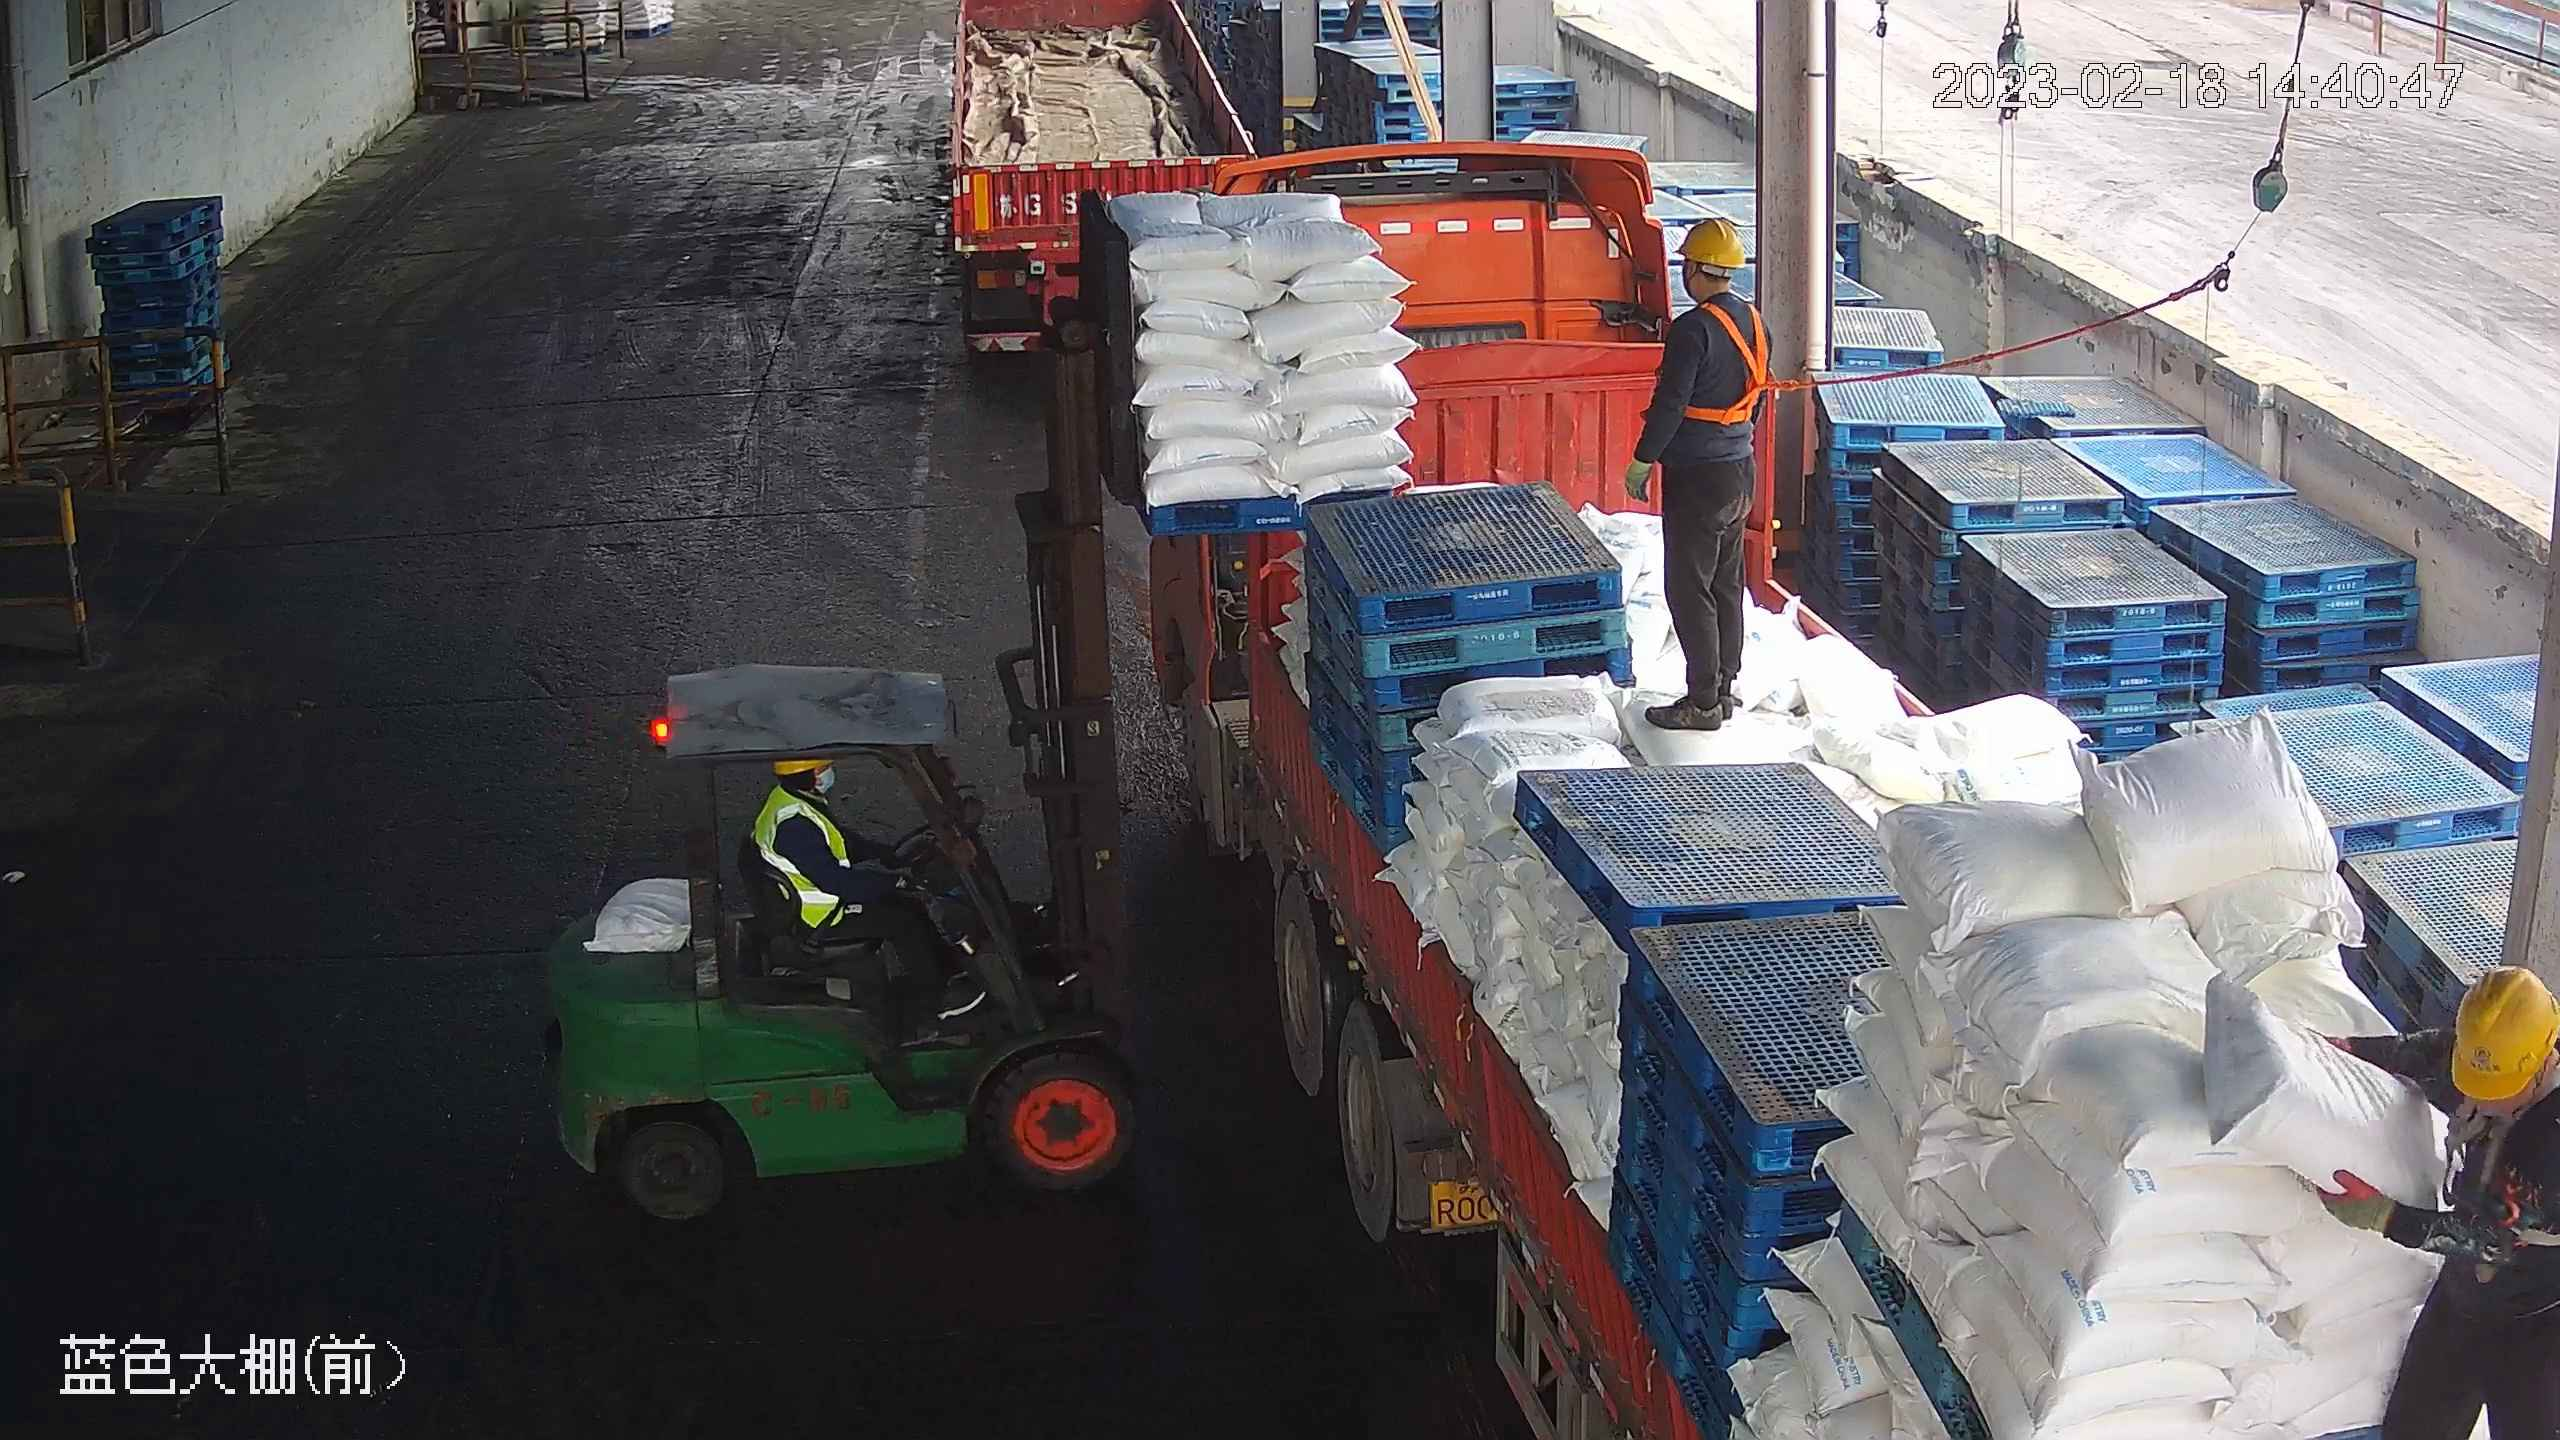belt: (2451, 1088, 2559, 1251), (1680, 294, 1781, 433)
head: (2406, 963, 2560, 1229), (1637, 219, 1780, 380), (758, 756, 853, 853)
helmet: (2440, 965, 2560, 1104), (1680, 216, 1749, 270)
people: (2312, 962, 2559, 1439), (1623, 216, 1791, 742), (757, 754, 980, 1011)
truck: (1022, 162, 2560, 1440), (936, 4, 1276, 348)
